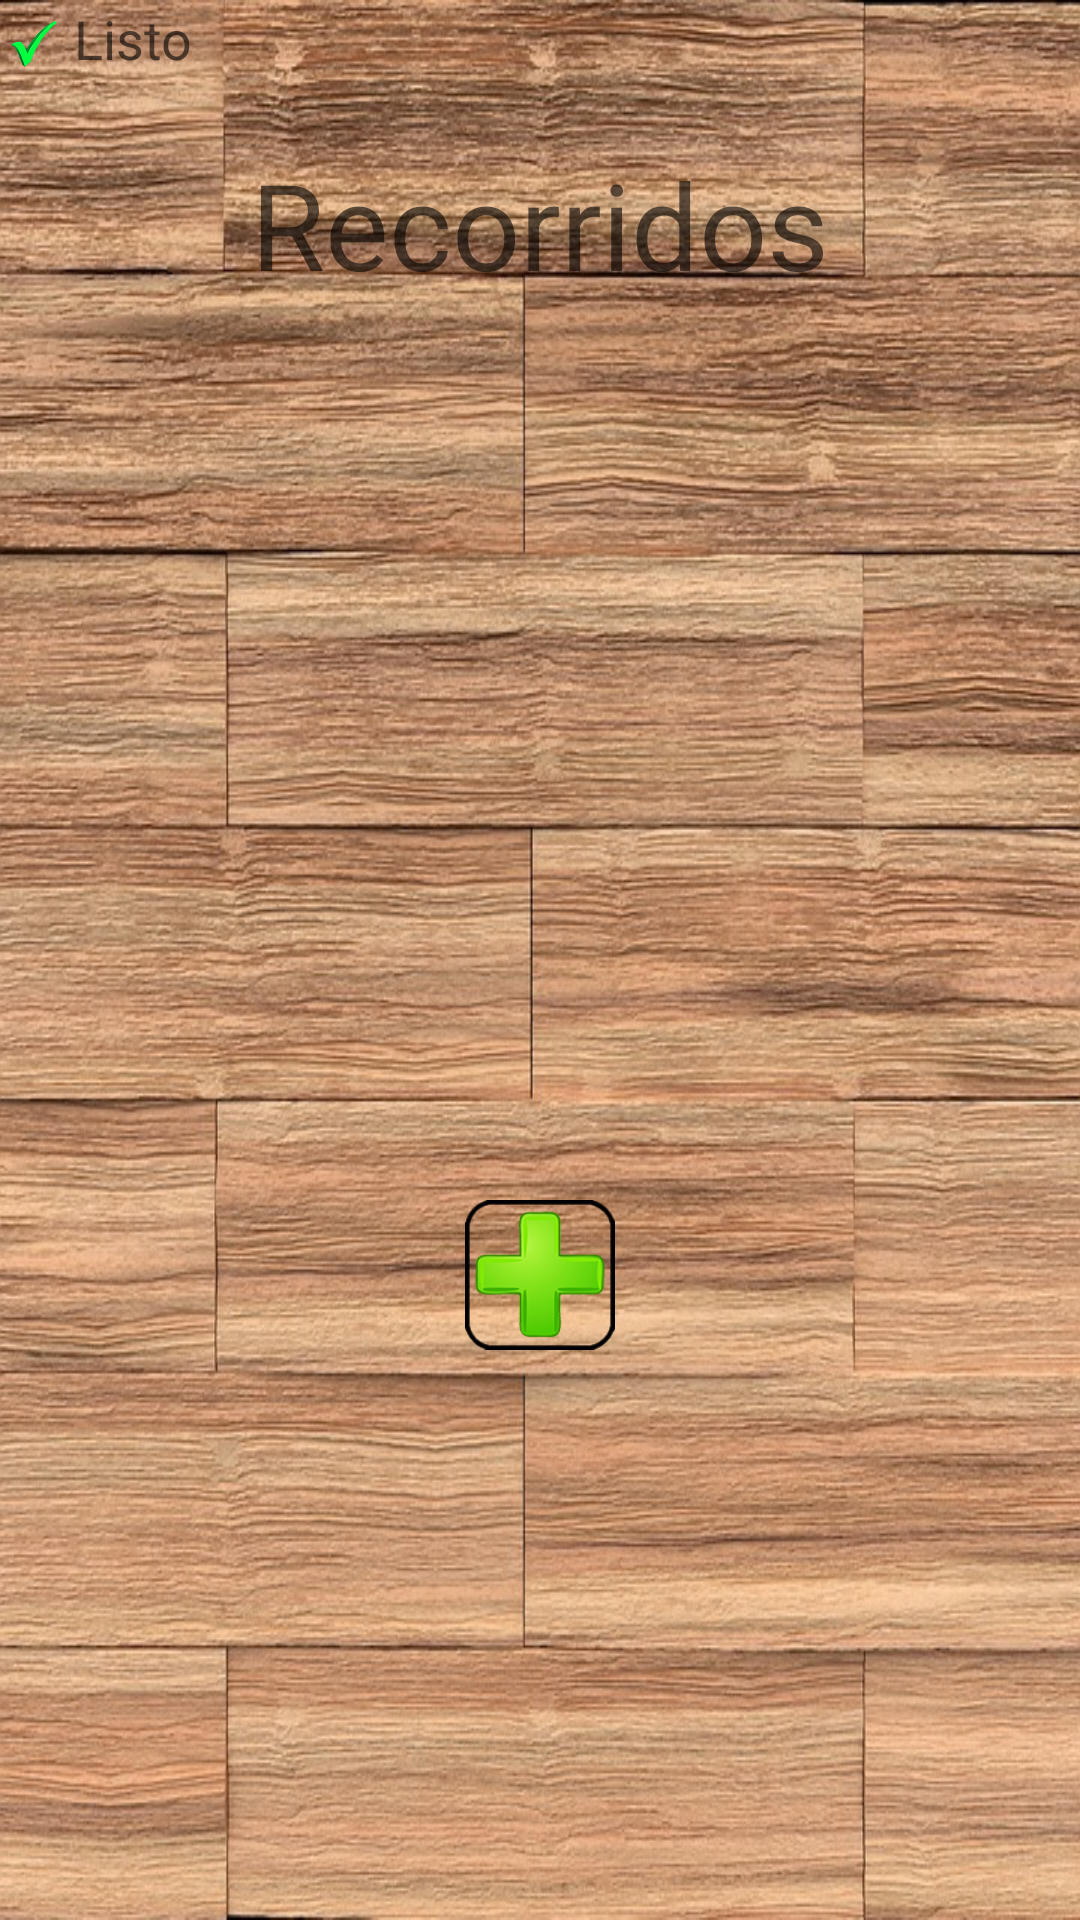

Point at icon controls on the screen. Image size 1080x1920, points as (x,y).
check: (37,37)
nuevo: (540,1275)
